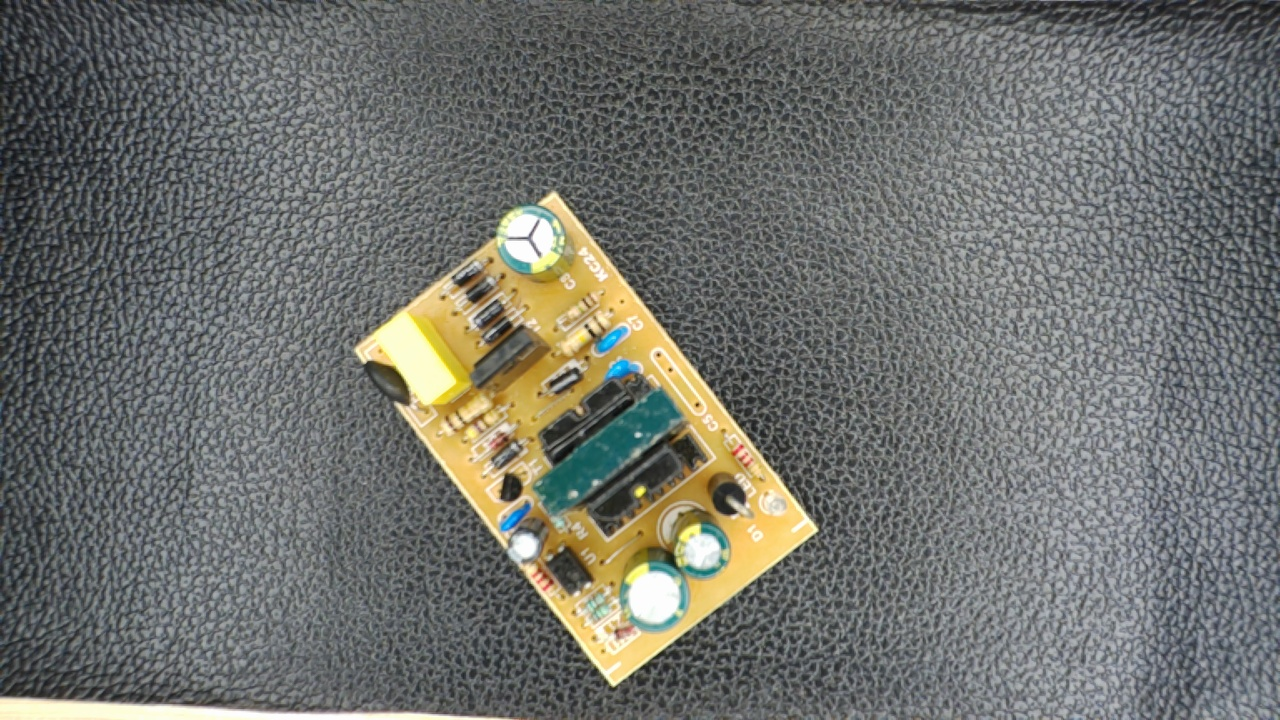fuse: (362, 356, 423, 413)
hv_capacitor: (489, 203, 581, 285)
optocoupler: (545, 545, 602, 602)
